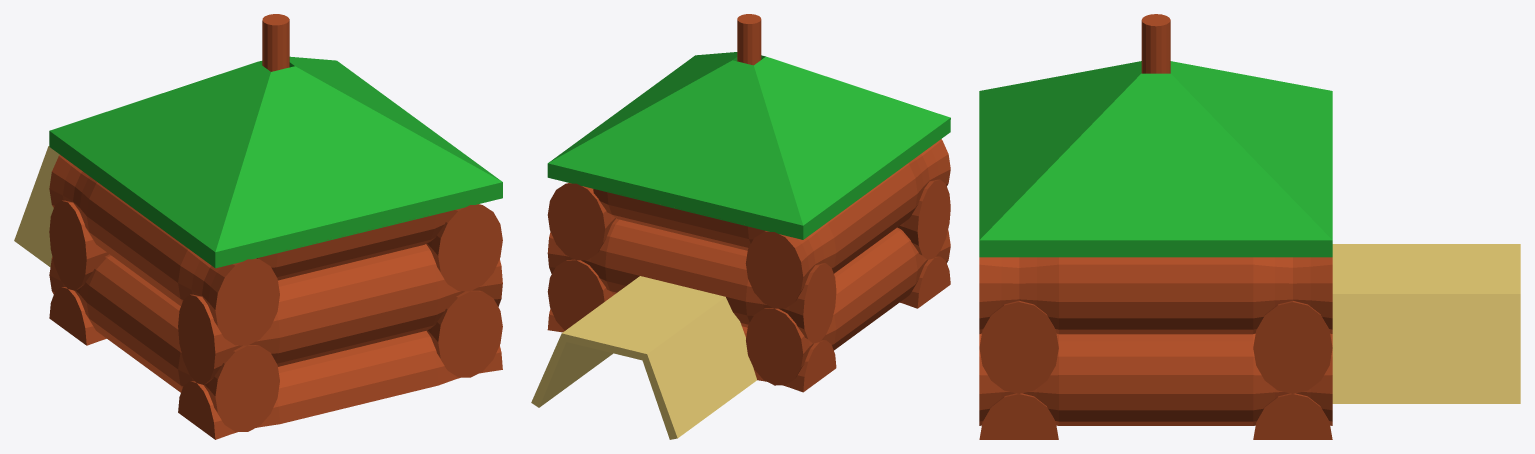
The model's file is beaver-house-foodstock_structure.glb.
3 renders of one model, left to right at view 1: azimuth 30°, elevation 25°; view 2: azimuth 150°, elevation 25°; view 3: azimuth 270°, elevation 25°, orthographic. The views are drawn at different scales.
Parts seen in each view (by area): view 1: food-stock; view 2: food-stock; view 3: food-stock.
Boxes of the visible parts, <box> form: food-stock: <box>14,14,502,439</box>; food-stock: <box>531,14,950,439</box>; food-stock: <box>979,14,1520,439</box>.
Size of the model in its own units: 0.2867 by 0.3128 by 0.4392.
